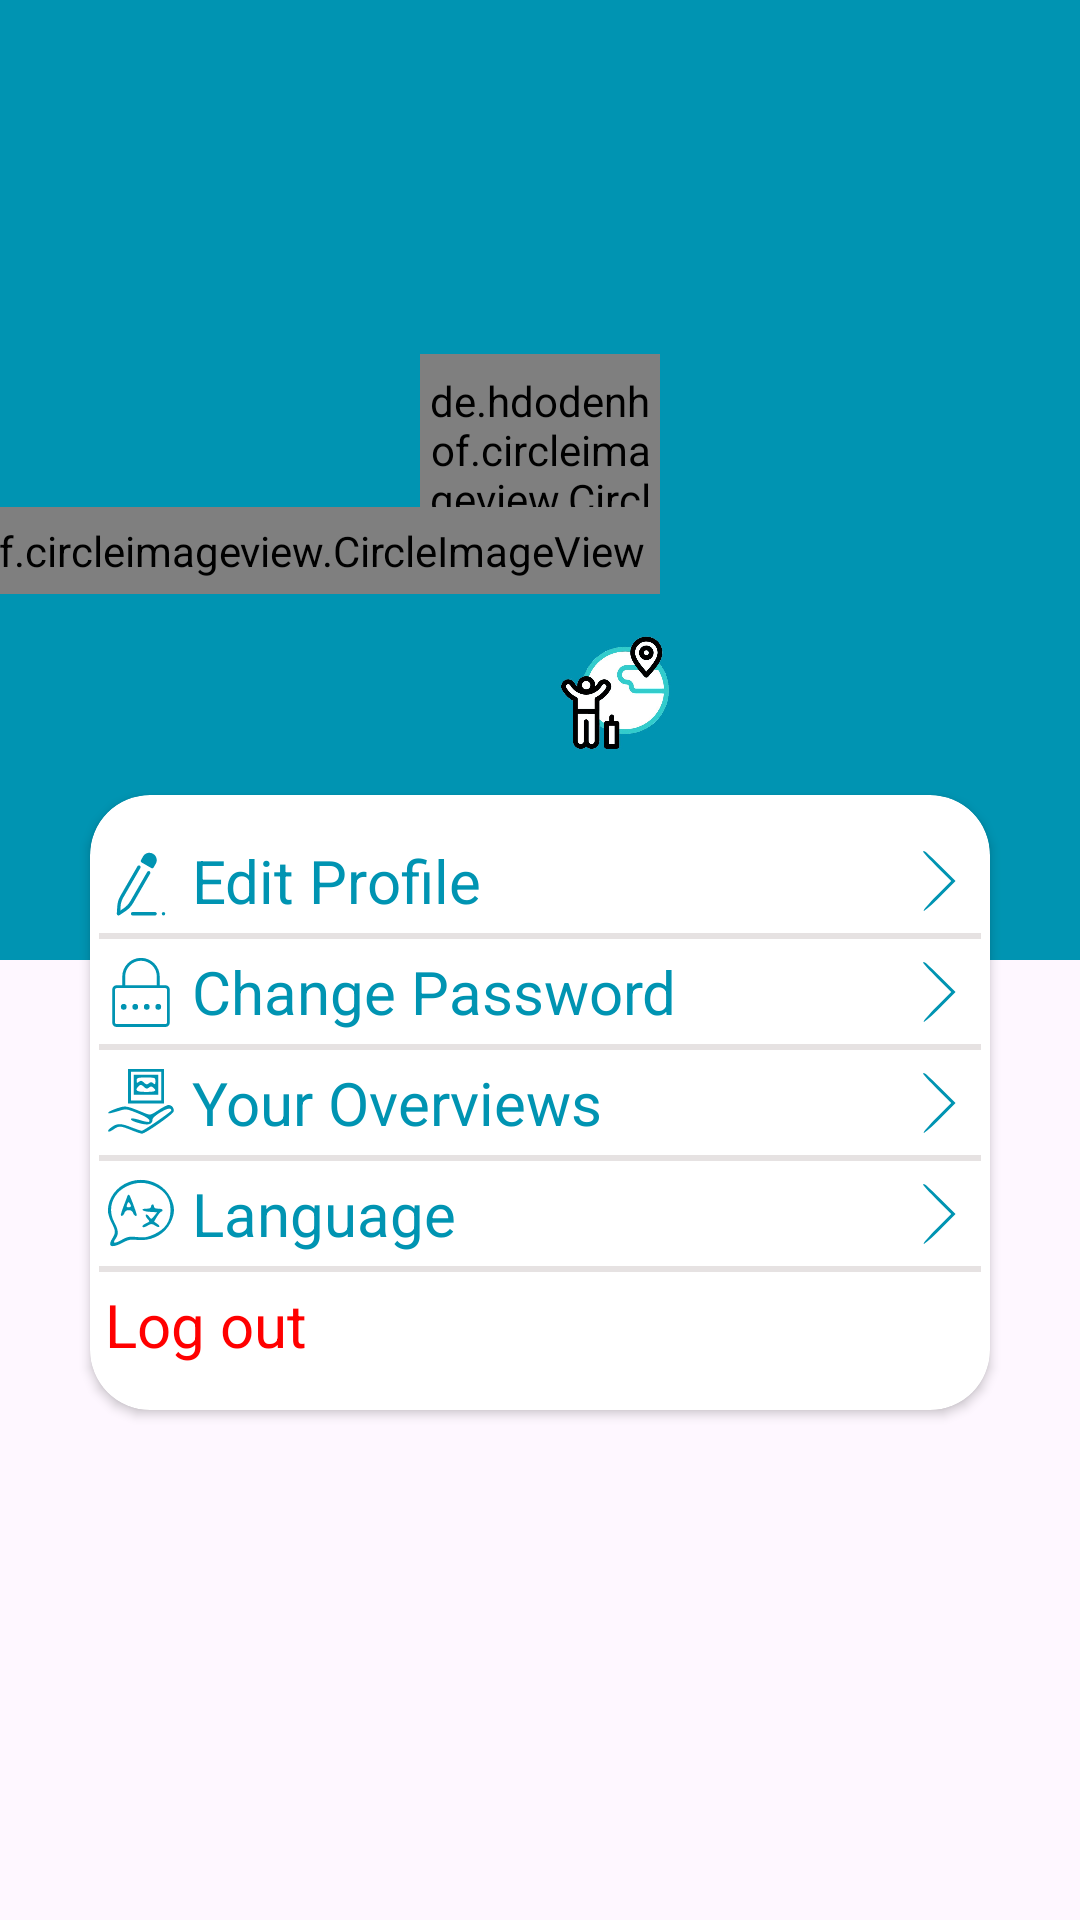

Named icons in this screenshot (1080x1920) and their centers, (x=x, y=y):
next: (x=939, y=881), (x=939, y=992), (x=939, y=1103), (x=939, y=1214)
travellingg: (x=615, y=692)
